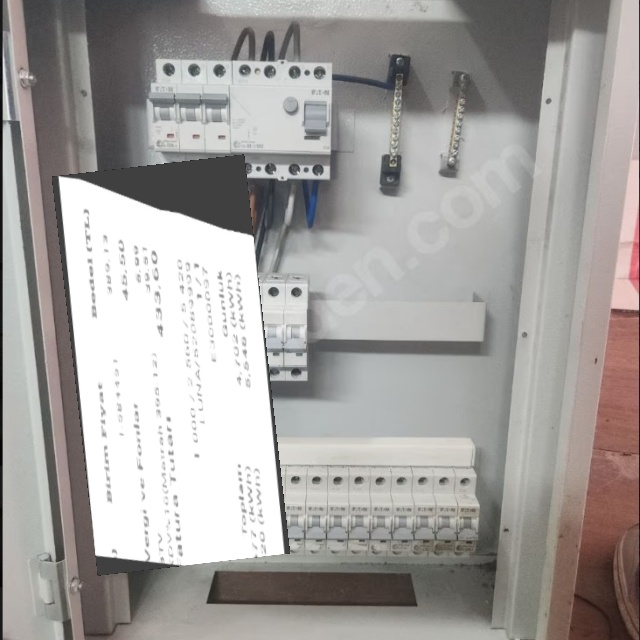electricity-bill: (51, 153, 289, 575)
